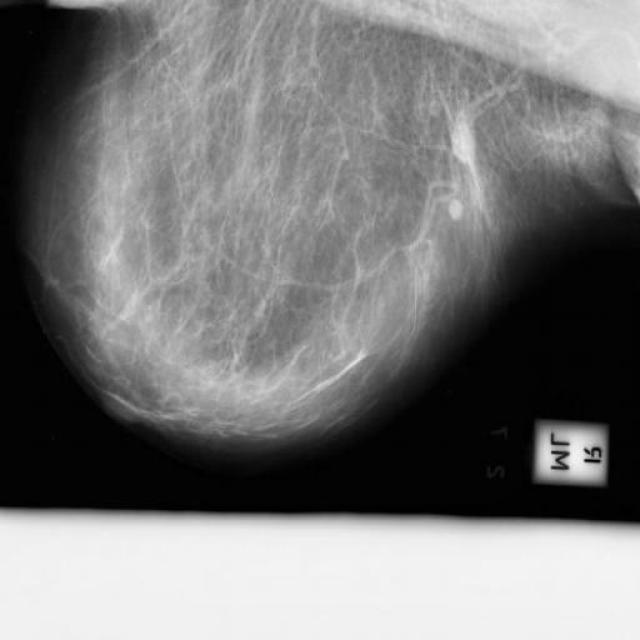cancer: (437, 112, 491, 178), (443, 192, 473, 236)
